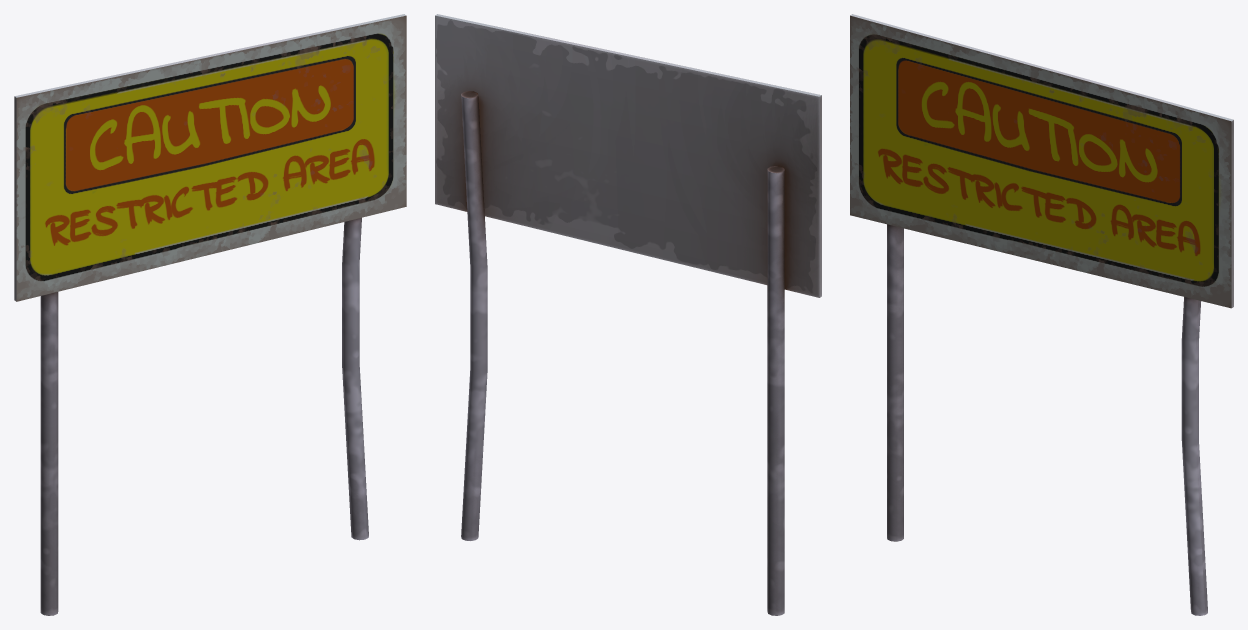
Rendered from Sign01_3.FBX.
3 renders of one model, left to right at view 1: azimuth 30°, elevation 25°; view 2: azimuth 150°, elevation 25°; view 3: azimuth 330°, elevation 25°, orthographic. The views are drawn at different scales.
Parts seen in each view (by area): view 1: Sign01_3; view 2: Sign01_3; view 3: Sign01_3.
Boxes of the visible parts, x1,y1,x2,y2 form: Sign01_3: (14,14,406,615); Sign01_3: (435,14,821,615); Sign01_3: (850,14,1233,615).
Size of what is drawn, in the model's own units: 1 by 1.3 by 0.0503.
